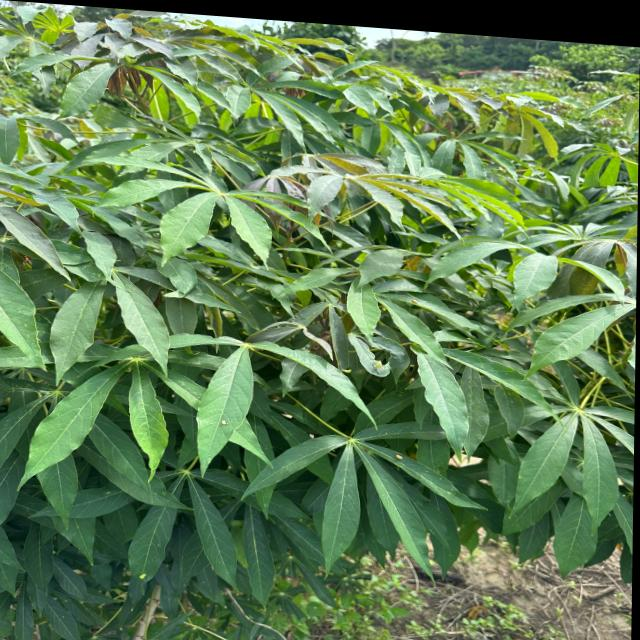Mosca: (390, 448, 410, 462), (410, 295, 428, 309), (371, 359, 386, 374), (135, 568, 149, 584), (215, 417, 229, 430)
